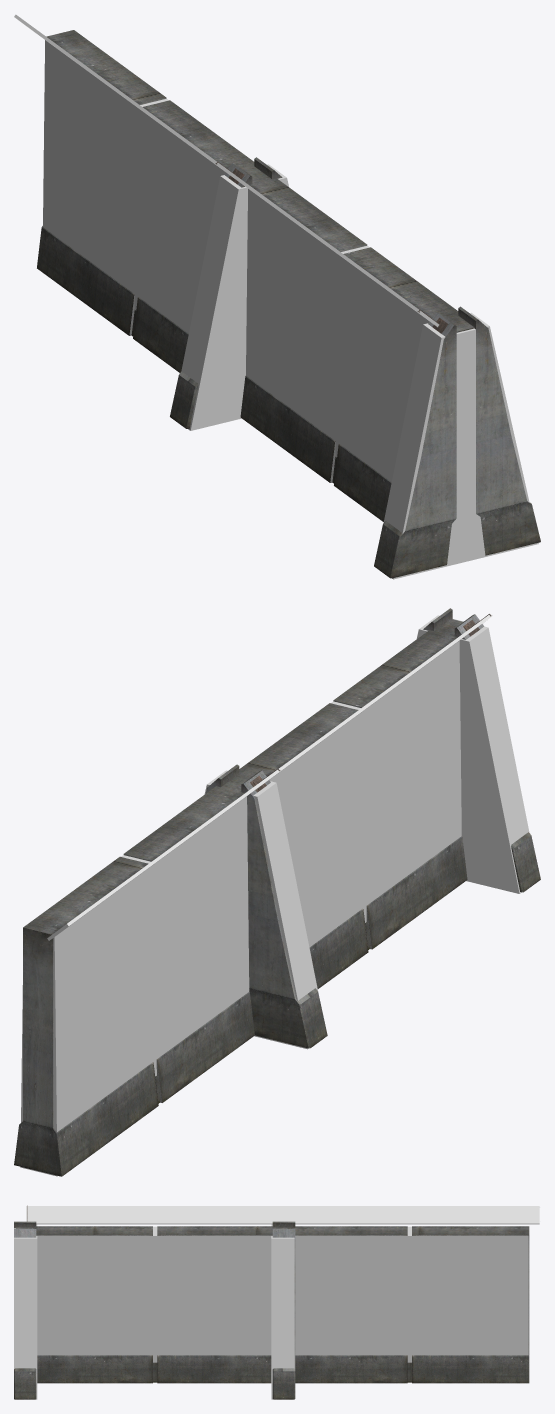
Rendered from concrete_wall_base_16m.fbx.
3 renders of one model, top to bottom at view 1: azimuth 30°, elevation 25°; view 2: azimuth 150°, elevation 25°; view 3: azimuth 270°, elevation 25°, orthographic. The views are drawn at different scales.
Parts seen in each view (by area): view 1: px_concrete_wall_base_16_mesh, concrete_wall_base_16_mesh; view 2: px_concrete_wall_base_16_mesh, concrete_wall_base_16_mesh; view 3: px_concrete_wall_base_16_mesh, concrete_wall_base_16_mesh.
Part boxes in pixels (box(x1,y1,x2,y2)): px_concrete_wall_base_16_mesh: box(14, 14, 538, 579); concrete_wall_base_16_mesh: box(37, 30, 540, 578); px_concrete_wall_base_16_mesh: box(20, 614, 529, 1176); concrete_wall_base_16_mesh: box(14, 608, 540, 1176); px_concrete_wall_base_16_mesh: box(14, 1206, 539, 1399); concrete_wall_base_16_mesh: box(14, 1205, 529, 1399).
Size of the model in its own units: 3.44 by 5.52 by 16.42.
Materials: 5 (5 with a texture image).
